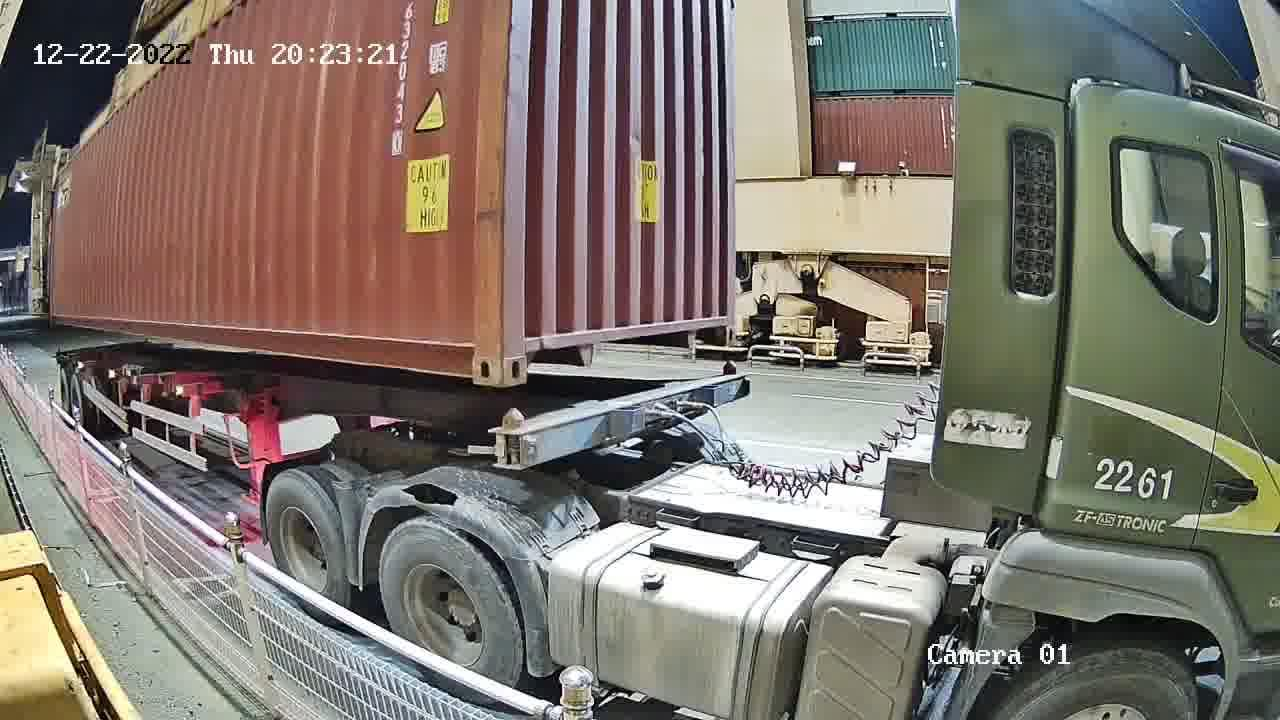Chassis: (497, 370, 752, 471)
Cone: (497, 436, 527, 471)
Container: (504, 297, 736, 386)
Hole_L: (502, 309, 543, 389)
Hole_R: (450, 310, 503, 385), (710, 297, 736, 347)
Tire: (382, 525, 526, 688), (267, 474, 353, 609)
